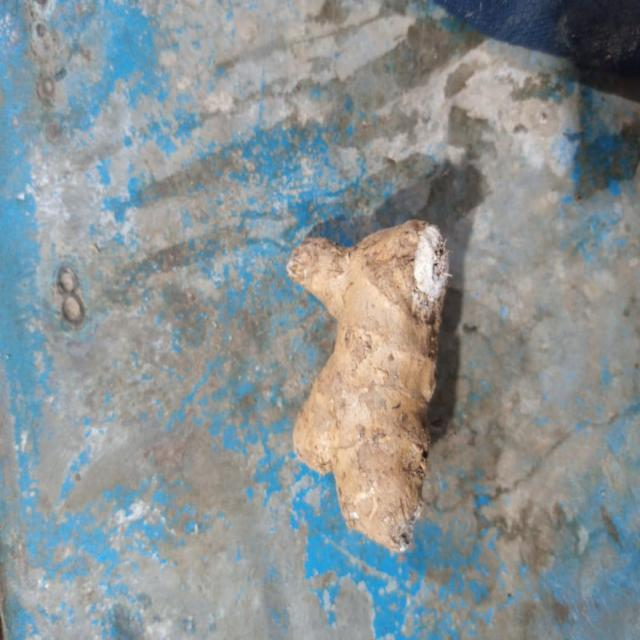ginger: (296, 236, 454, 552)
